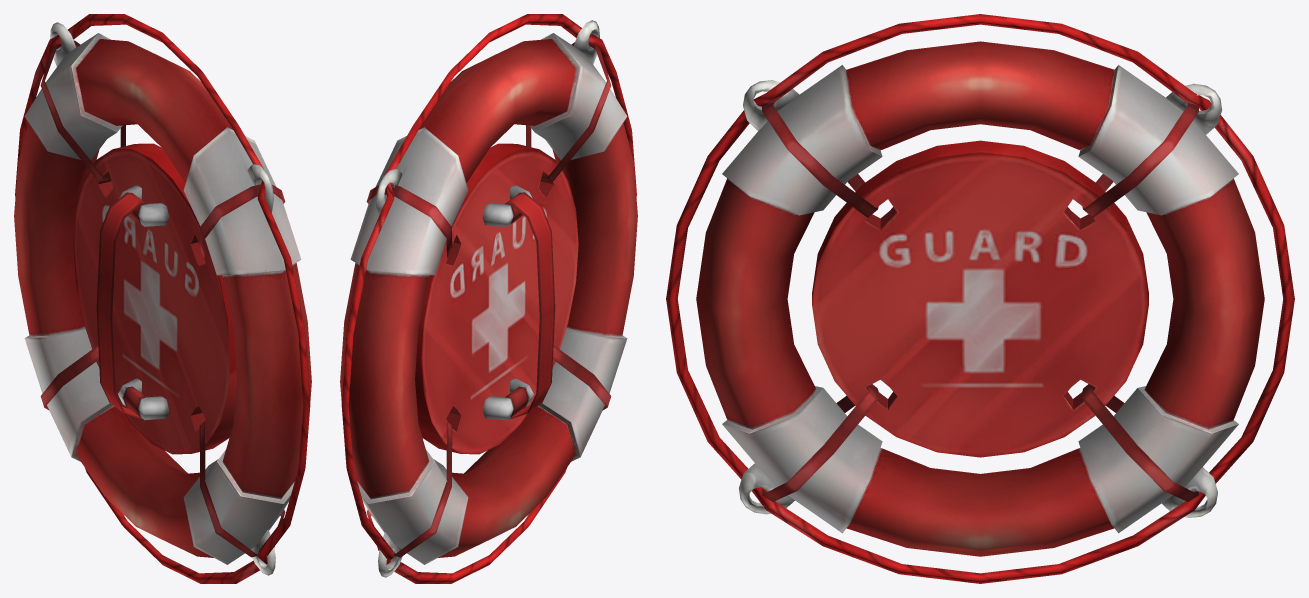
File: Hero_Phillop_Cos18Summer_Shield.fbx
The picture shows the model from 3 angles, left to right: view 1: azimuth 30°, elevation 25°; view 2: azimuth 150°, elevation 25°; view 3: azimuth 270°, elevation 25°; orthographic projection. The views are drawn at different scales.
Parts seen in each view (by area): view 1: Hero_Phillop_Cos18Summer_Shield; view 2: Hero_Phillop_Cos18Summer_Shield; view 3: Hero_Phillop_Cos18Summer_Shield.
Boxes of the visible parts, box(x1,y1,x2,y2) form: Hero_Phillop_Cos18Summer_Shield: box(14, 14, 311, 583); Hero_Phillop_Cos18Summer_Shield: box(340, 14, 637, 583); Hero_Phillop_Cos18Summer_Shield: box(666, 14, 1294, 583).
Bounding box in the file's own units: 0.1459 × 0.8083 × 0.8082.
Materials: 1 (1 with a texture image).
